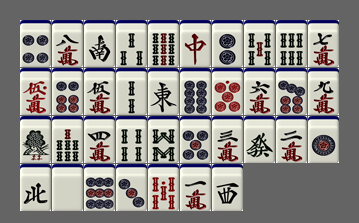0m: (20, 68, 51, 115)
0p: (212, 68, 243, 115)
0s: (148, 164, 179, 211)
1m: (180, 164, 211, 211)
1p: (308, 116, 339, 163)
1s: (20, 116, 51, 163)
1z: (148, 68, 179, 115)
2m: (276, 116, 307, 163)
2p: (212, 20, 243, 67)
2s: (116, 68, 147, 115)
2z: (84, 20, 115, 67)
3m: (212, 116, 243, 163)
3p: (116, 164, 147, 211)
3s: (116, 20, 147, 67)
3z: (212, 164, 243, 211)
4m: (84, 116, 115, 163)
4p: (20, 20, 51, 67)
4s: (116, 116, 147, 163)
4z: (20, 164, 51, 211)
5m: (84, 68, 115, 115)
5p: (180, 116, 211, 163)
5s: (244, 20, 275, 67)
5z: (52, 164, 83, 211)
6m: (244, 68, 275, 115)
6p: (52, 68, 83, 115)
6s: (276, 20, 307, 67)
6z: (244, 116, 275, 163)
7m: (308, 20, 339, 67)
7p: (276, 68, 307, 115)
7s: (52, 116, 83, 163)
7z: (180, 20, 211, 67)
8m: (52, 20, 83, 67)
8p: (180, 68, 211, 115)
8s: (148, 116, 179, 163)
9m: (308, 68, 339, 115)
9p: (84, 164, 115, 211)
9s: (148, 20, 179, 67)
